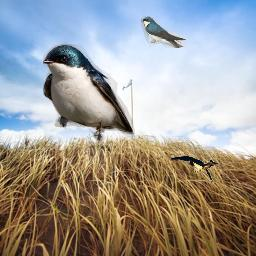Swallow: (43, 44, 135, 141), (169, 153, 229, 184), (141, 16, 186, 48)
